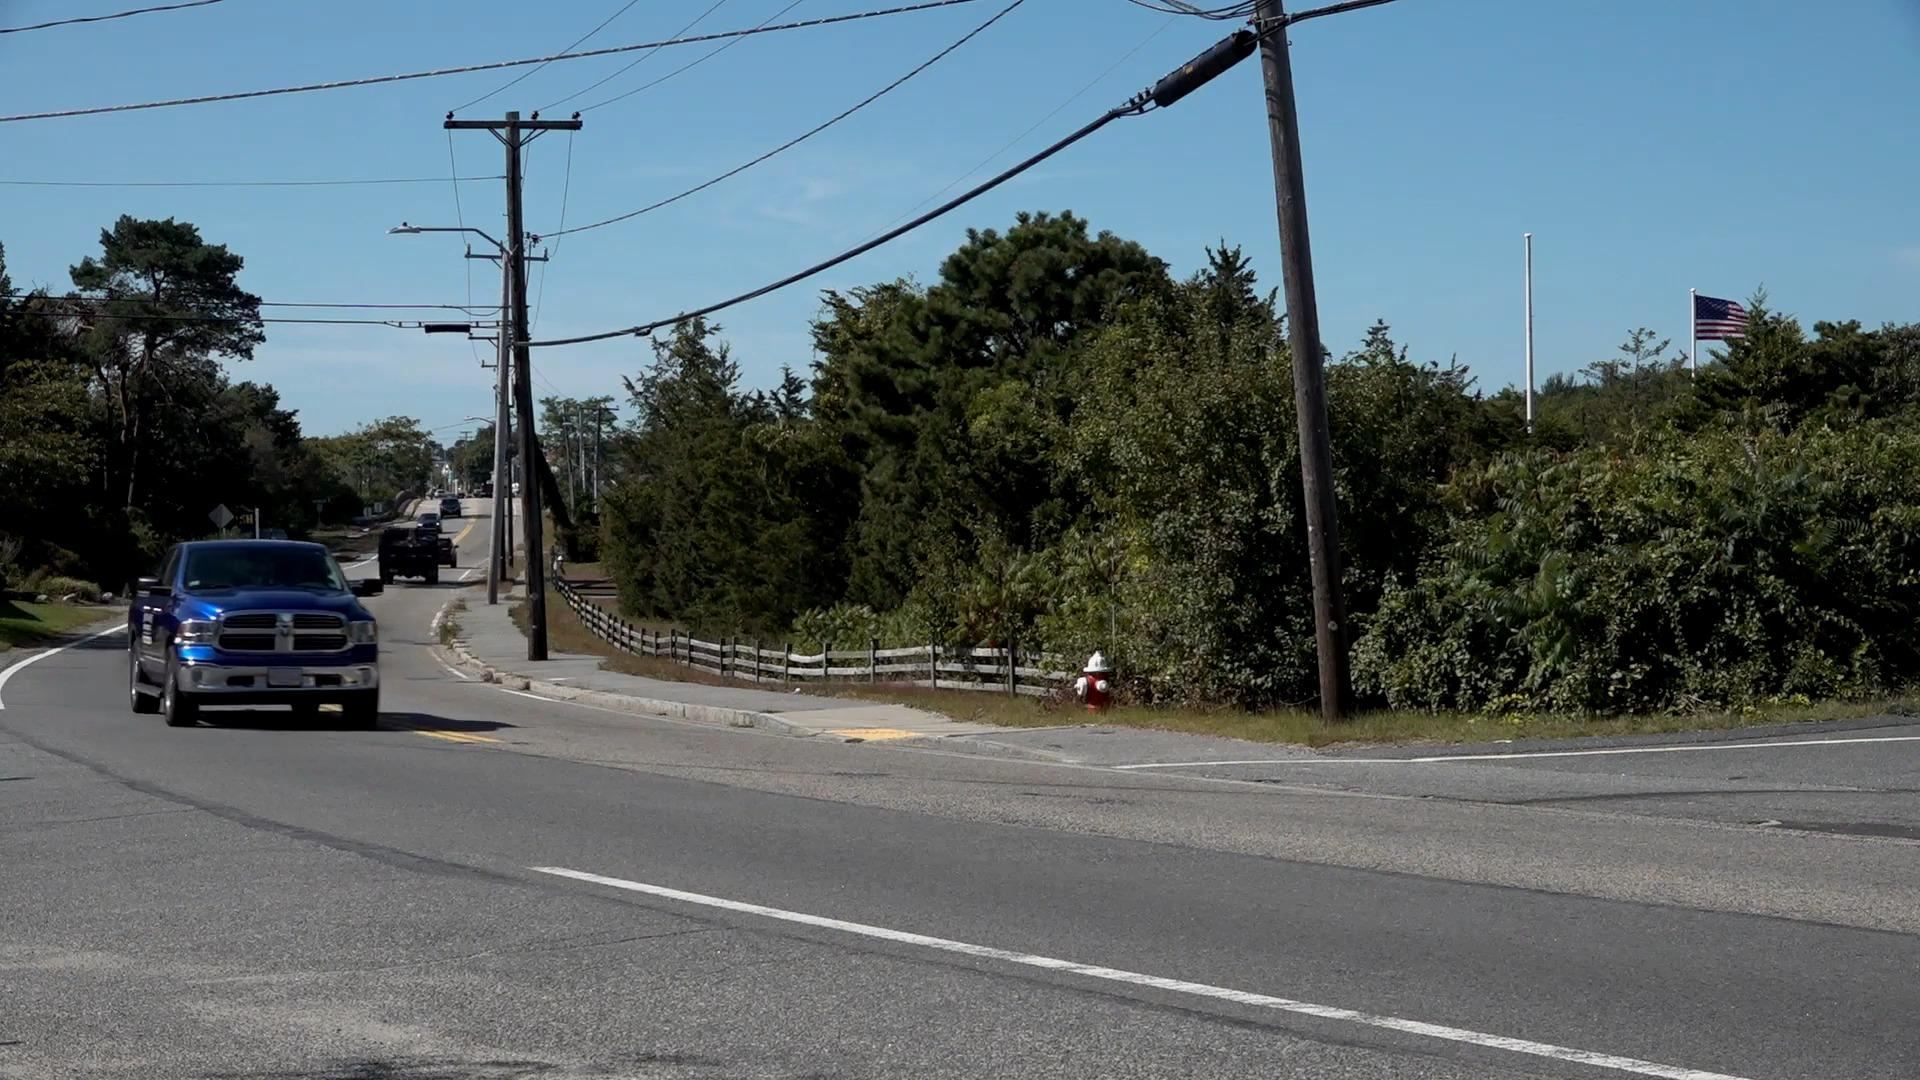pickup: (125, 533, 377, 733)
